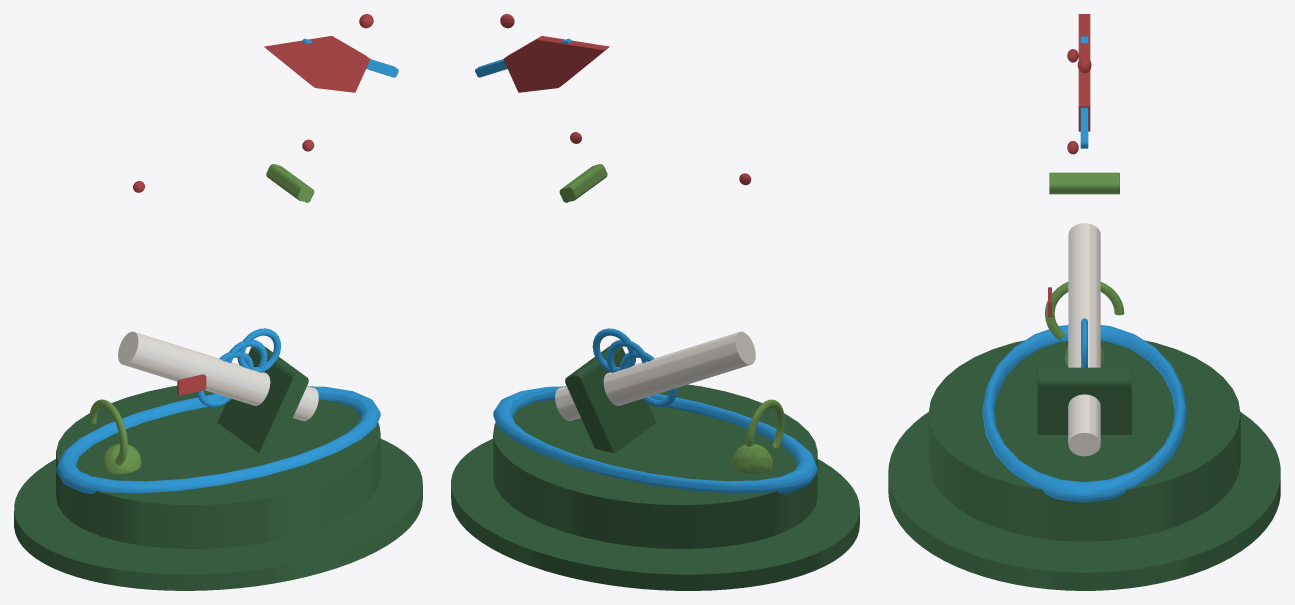
The model's file is 0566_伟大的发明图鉴_伏打电堆.glb.
The picture shows the model from 3 angles, left to right: view 1: azimuth 30°, elevation 25°; view 2: azimuth 150°, elevation 25°; view 3: azimuth 270°, elevation 25°; orthographic projection. The views are drawn at different scales.
Parts seen in each view (by area): view 1: card_0566; view 2: card_0566; view 3: card_0566.
Part boxes in pixels (box(x1,y1,x2,y2)): card_0566: box(14, 14, 422, 590); card_0566: box(451, 14, 859, 590); card_0566: box(888, 14, 1280, 590).
Size of the model in its own units: 0.8223 by 1 by 0.6815.
